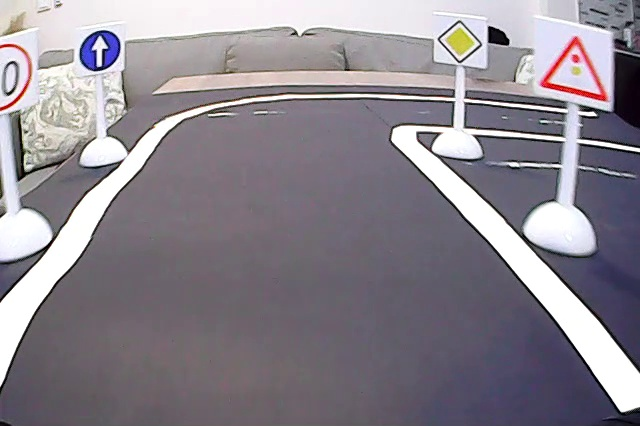red light: (533, 24, 608, 101)
